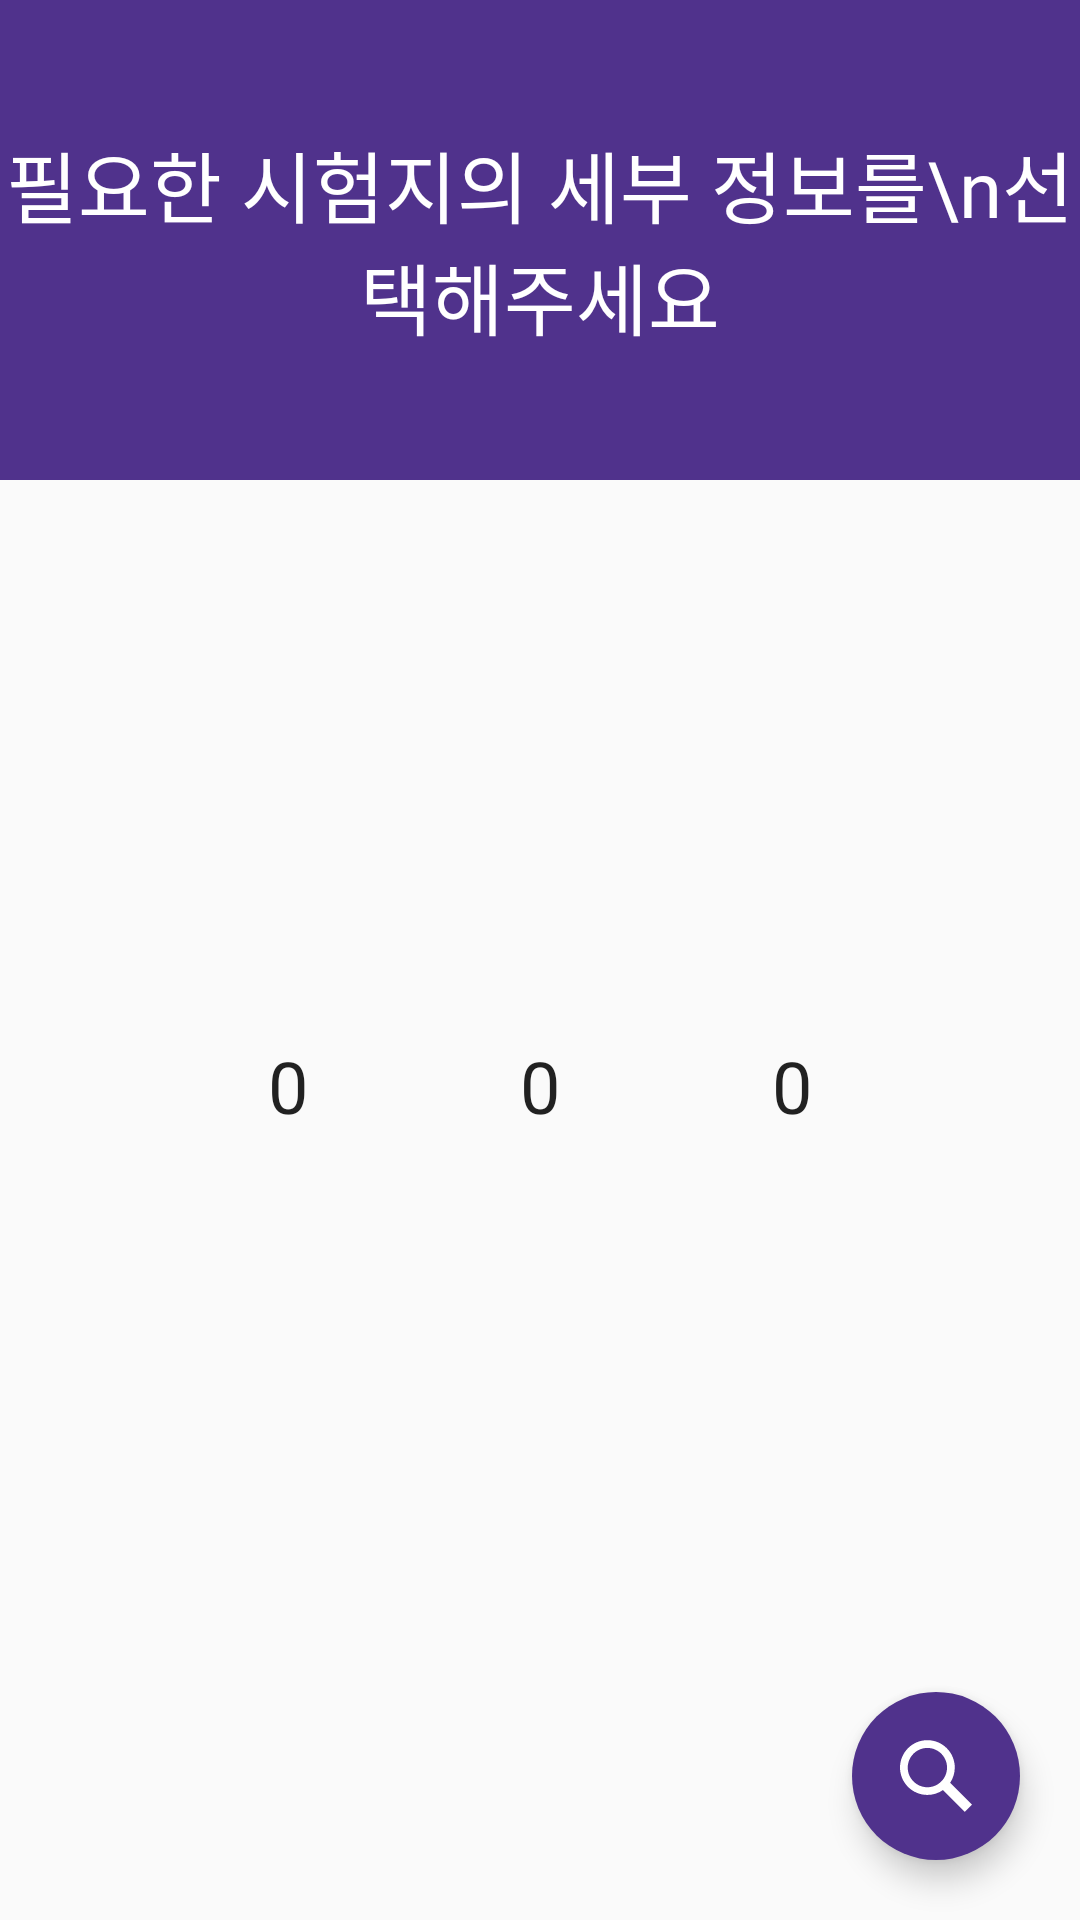

Screen size 1080 × 1920. Icon name, then its center in pixels as point (x, y):
search: point (936, 1776)
